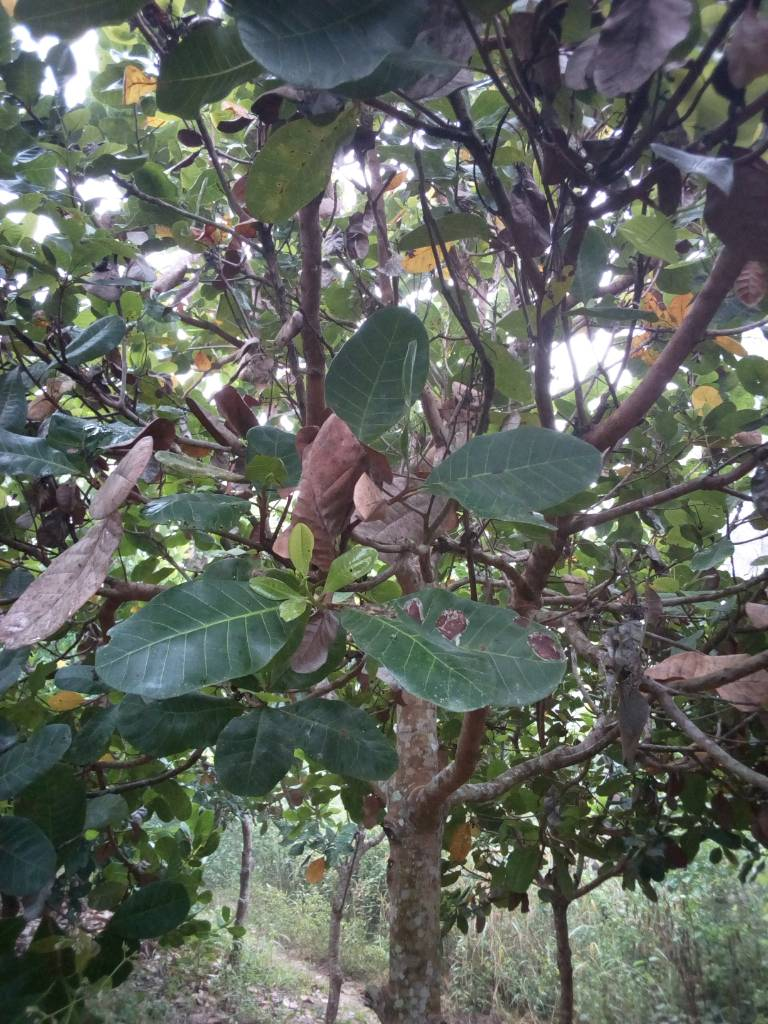Dessèchement des bourgeons: (597, 622, 668, 750)
